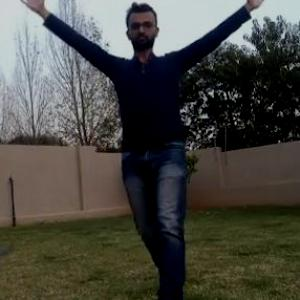takeoff: (40, 0, 248, 299)
